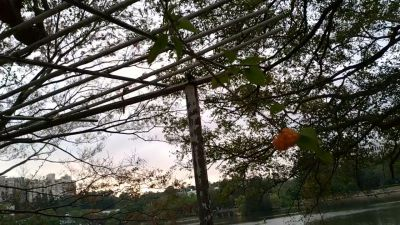eggs: (274, 127, 299, 153)
